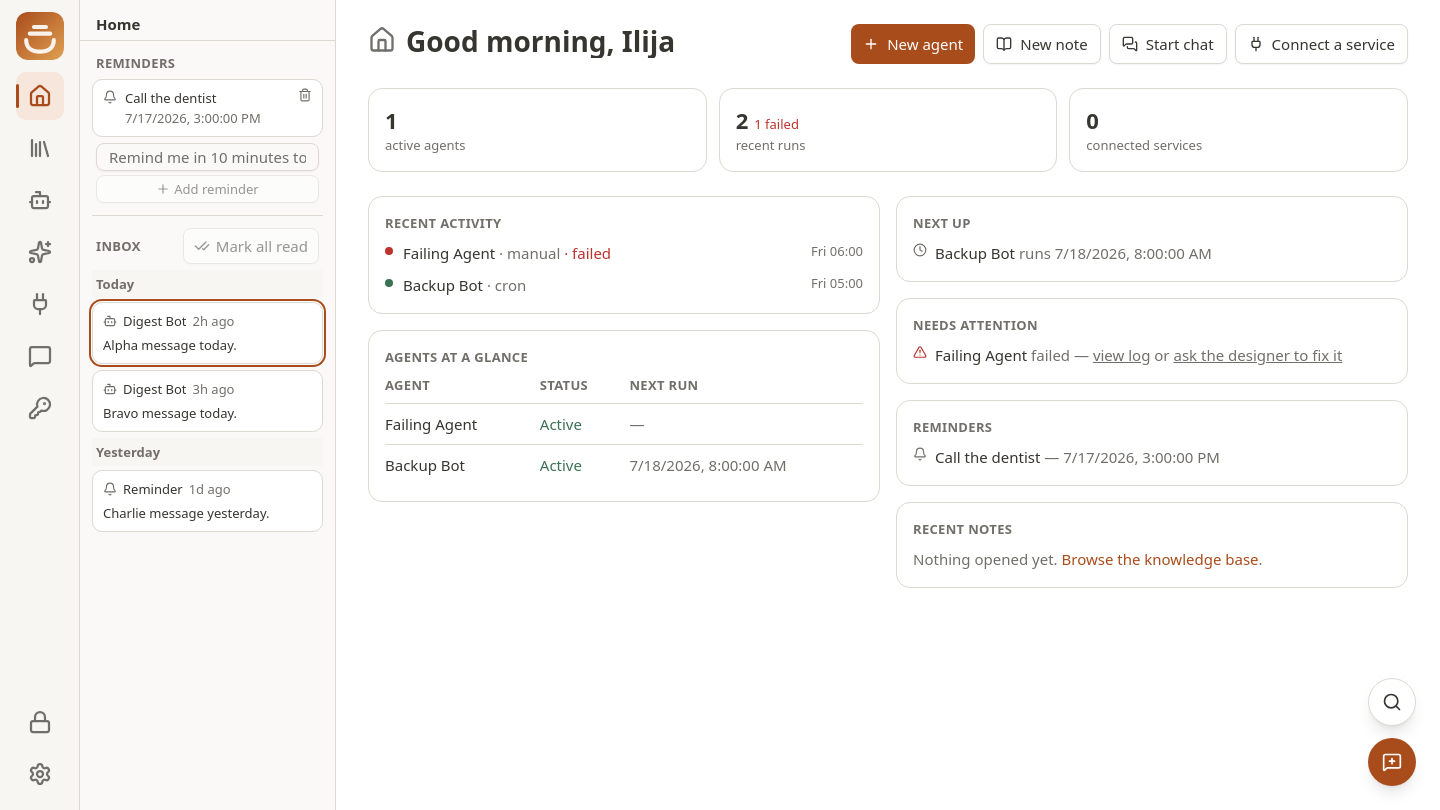
inbox: deleting the highlighted row moves the highlight to the next row
This screenshot has width=1440, height=810.
expect the text "Alpha message today." is shown: met, box [103,335,237,355]
Press j
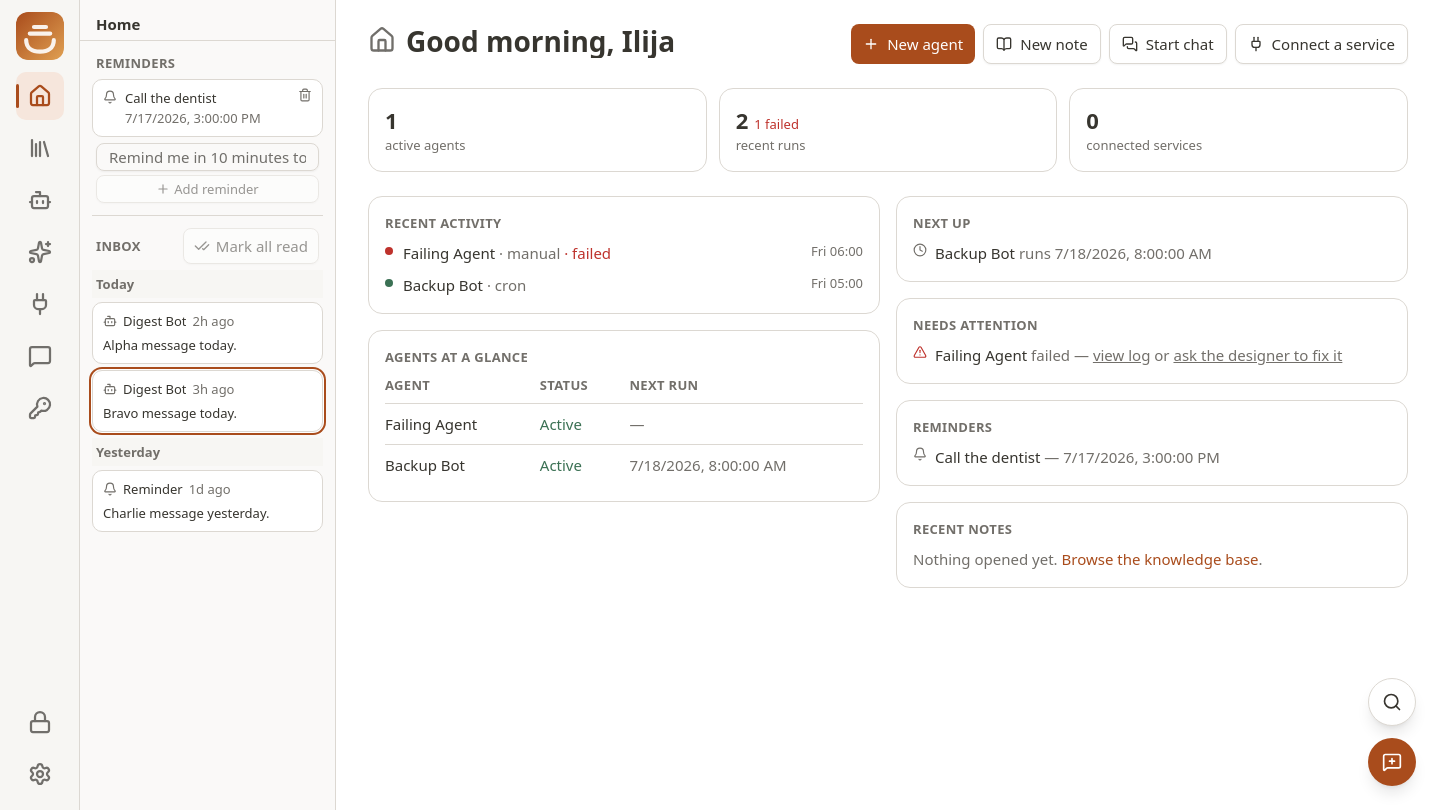
Press Enter
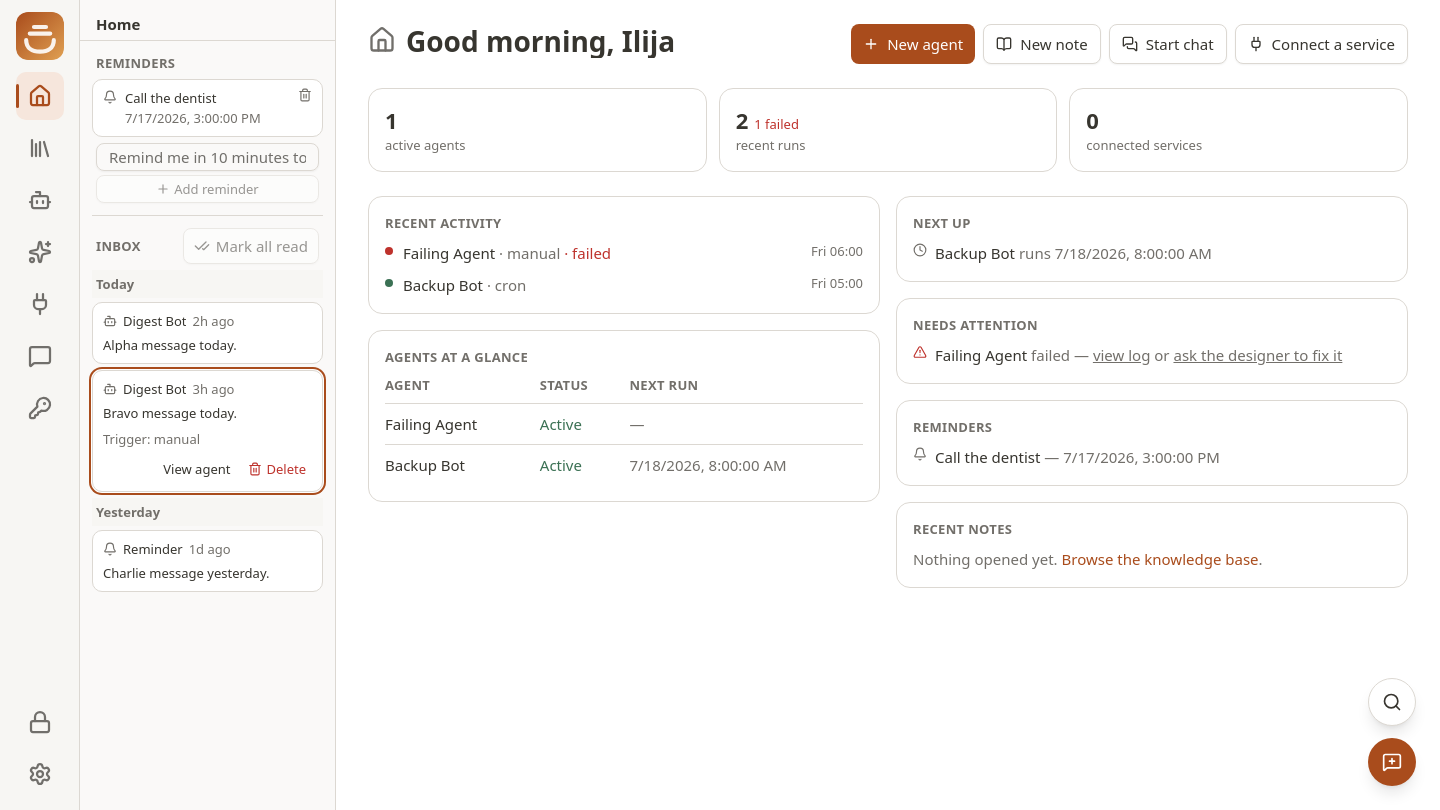
Click the button "Delete" at (277, 469), box [242,455,312,483]
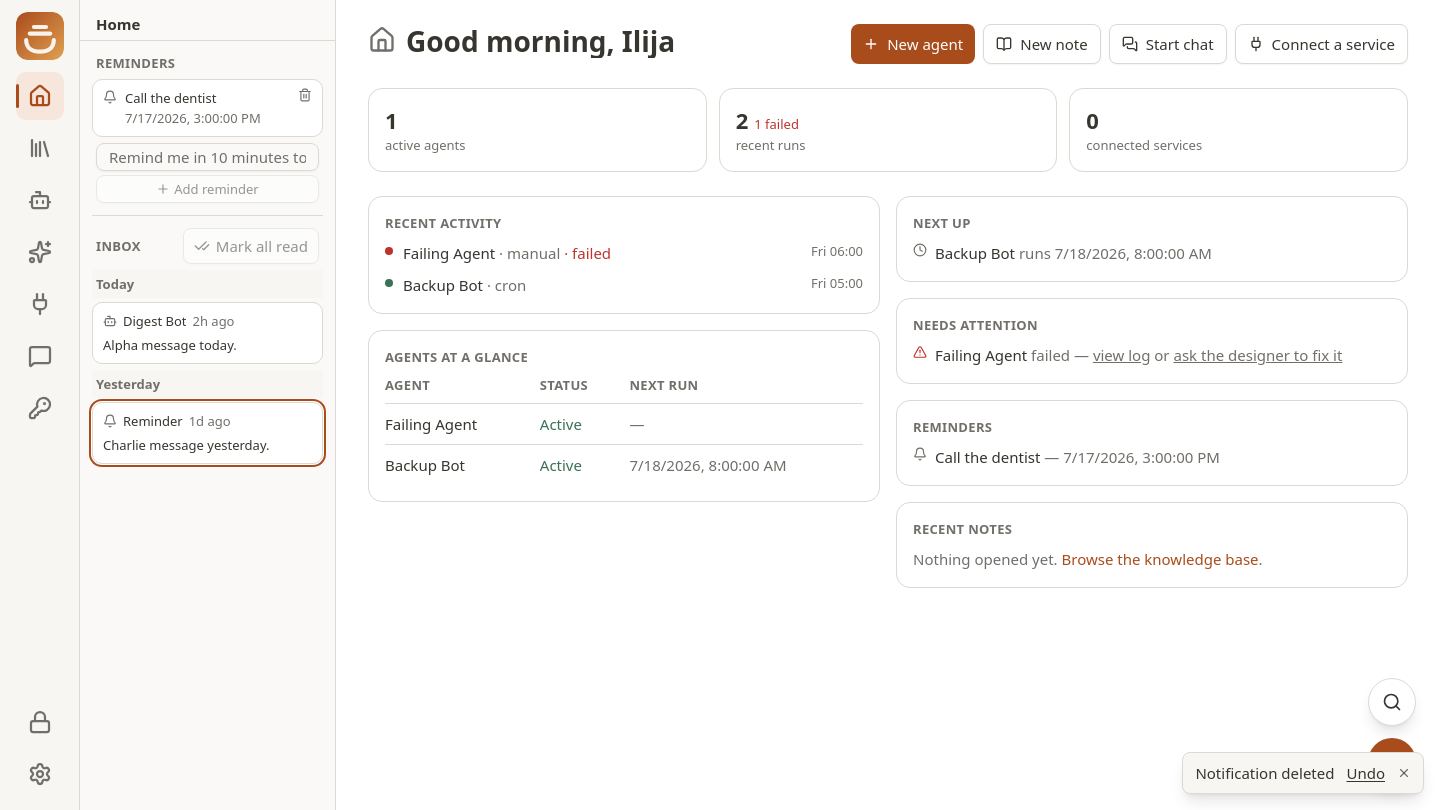
expect the button "Bravo message today." is gone: met
